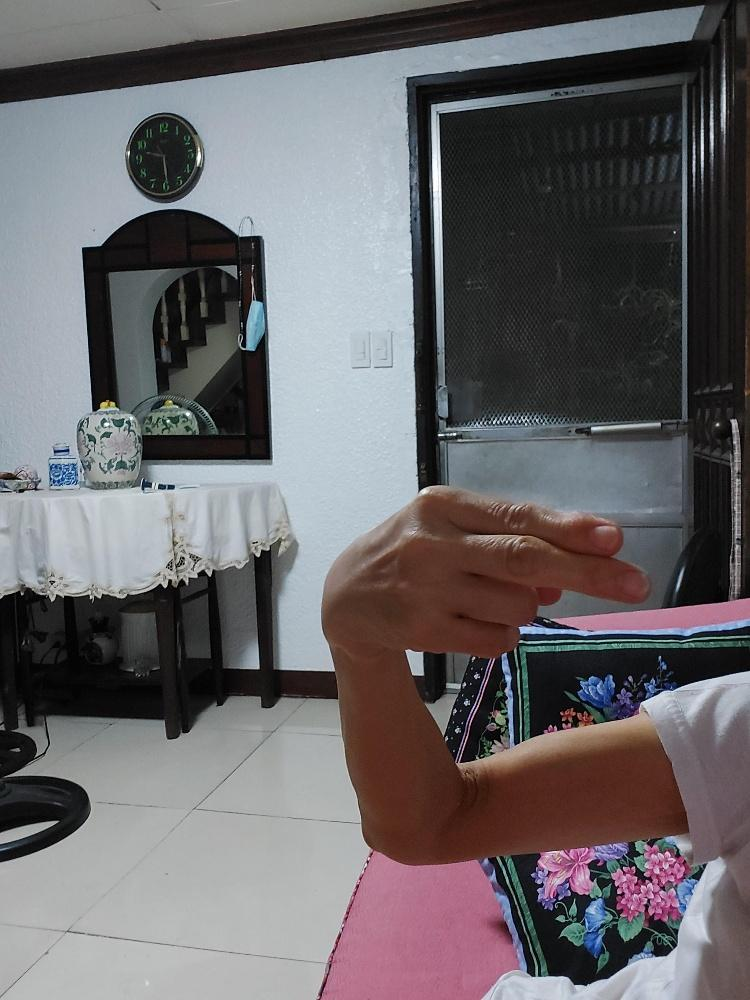h: (320, 481, 650, 656)
